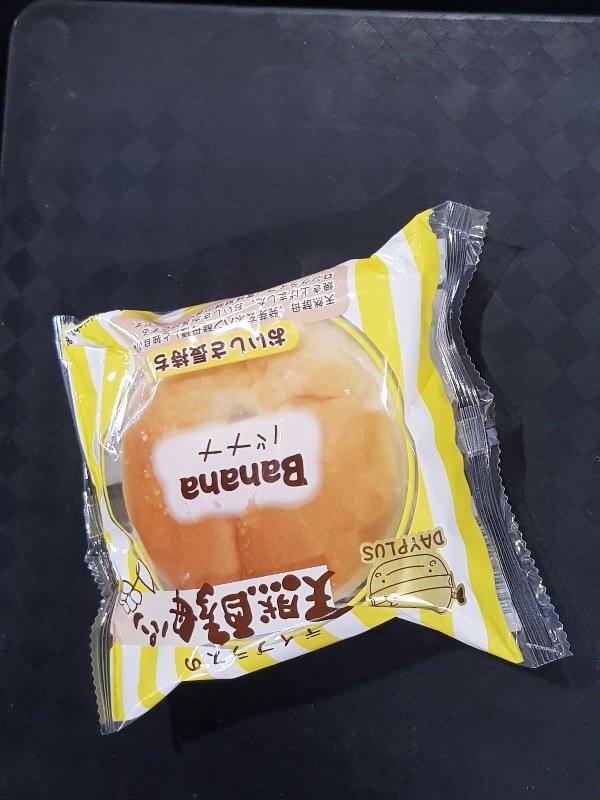Dayplus Banana: (51, 201, 574, 735)
